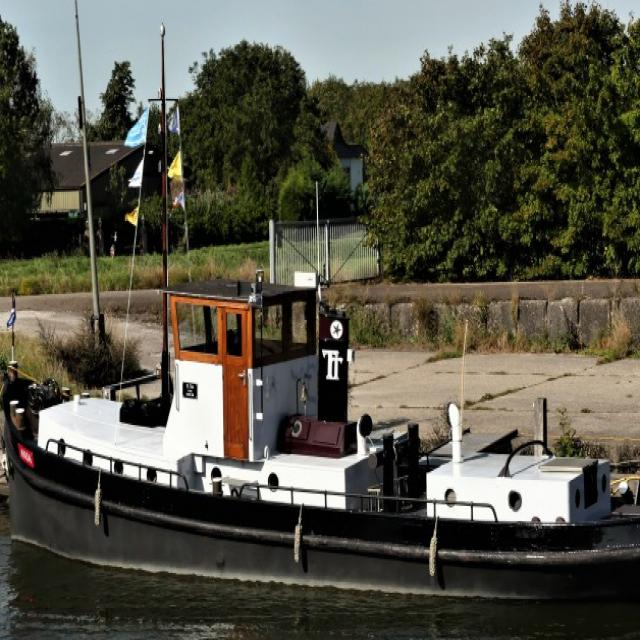tugboat: (1, 254, 640, 623)
